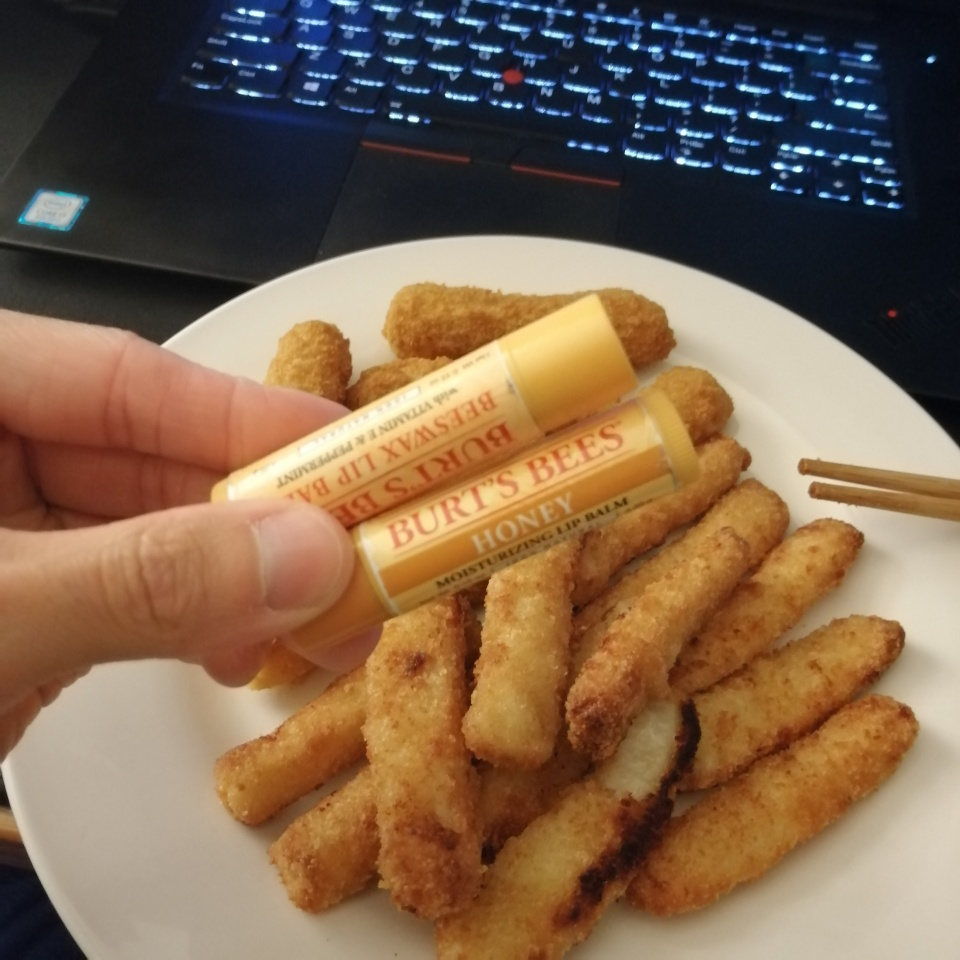chapstick: (287, 388, 701, 650), (209, 291, 641, 530)
